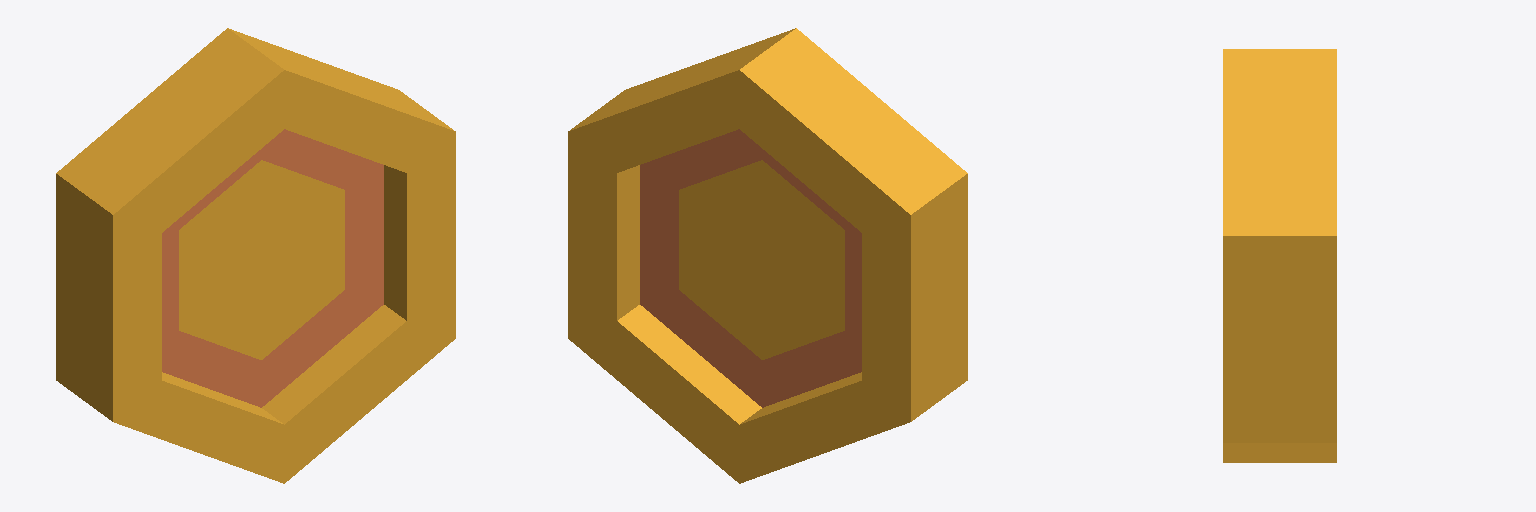
Rendered from GoldCoin.obj.
3 views of the same model, side by side, from view 1: azimuth 30°, elevation 25°; view 2: azimuth 150°, elevation 25°; view 3: azimuth 270°, elevation 25° (orthographic).
Parts seen in each view (by area): view 1: mergedBlocks; view 2: mergedBlocks; view 3: mergedBlocks.
Boxes of the visible parts, x1=… form: mergedBlocks: x1=56, y1=28, x2=455, y2=483; mergedBlocks: x1=568, y1=28, x2=967, y2=483; mergedBlocks: x1=1223, y1=49, x2=1336, y2=462.
Size of the model in its own units: 0.3464 by 0.4 by 0.1.